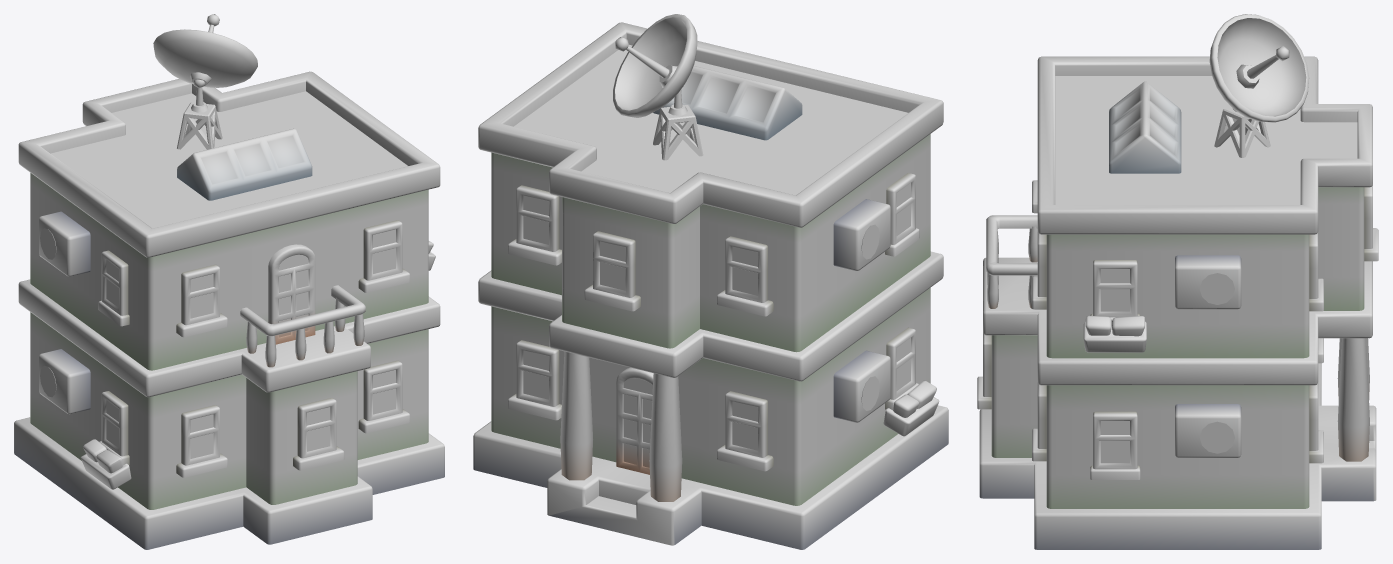
The model's file is NF_Bld_House 17.fbx.
The picture shows the model from 3 angles, left to right: view 1: azimuth 30°, elevation 25°; view 2: azimuth 150°, elevation 25°; view 3: azimuth 270°, elevation 25°; orthographic projection. The views are drawn at different scales.
Parts seen in each view (by area): view 1: House_17; view 2: House_17; view 3: House_17.
Boxes of the visible parts, box(x1,y1,x2,y2) form: House_17: box(14, 14, 444, 549); House_17: box(473, 14, 948, 549); House_17: box(977, 14, 1378, 549).
Size of the model in its own units: 9.37 by 11.35 by 9.16.
